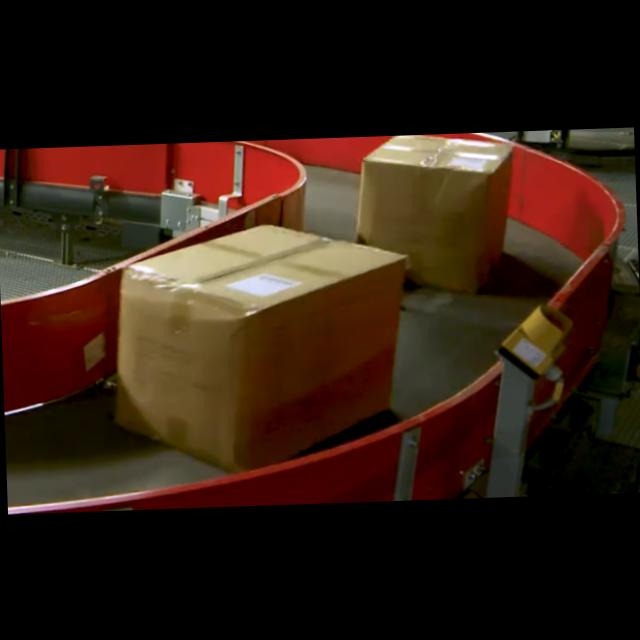box: (106, 216, 397, 467), (353, 130, 518, 298)
